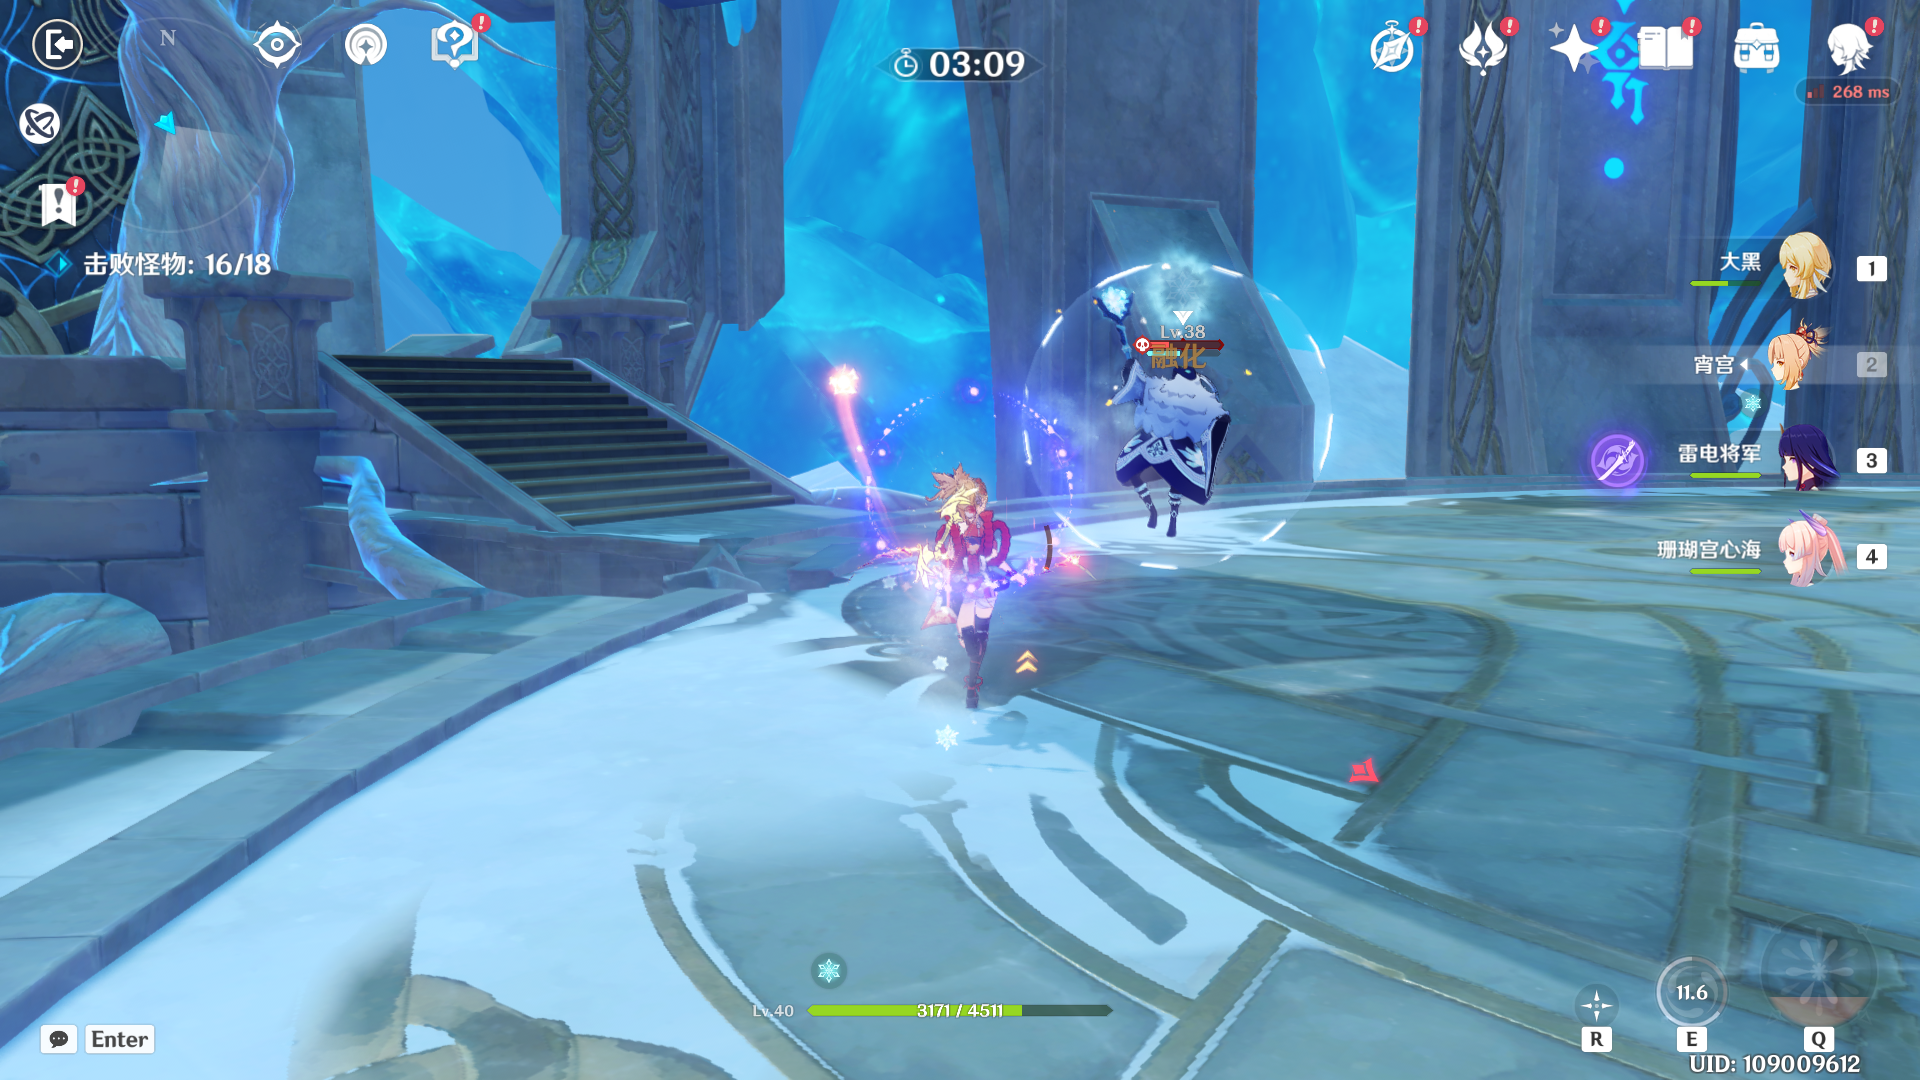caster: (1069, 295, 1295, 556)
character: (872, 446, 1084, 762)
